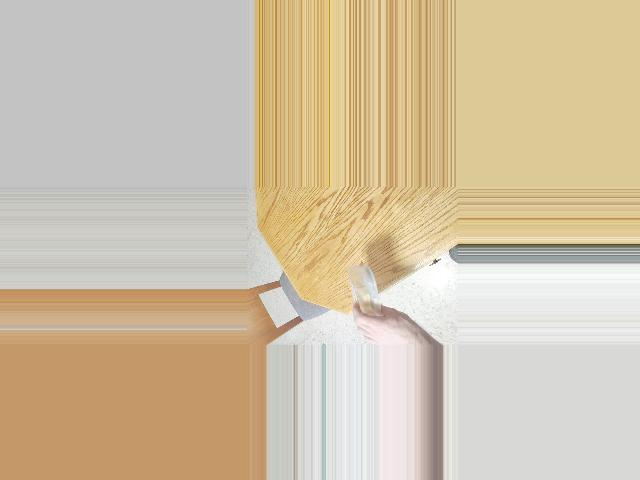cheese: (347, 269, 390, 315)
